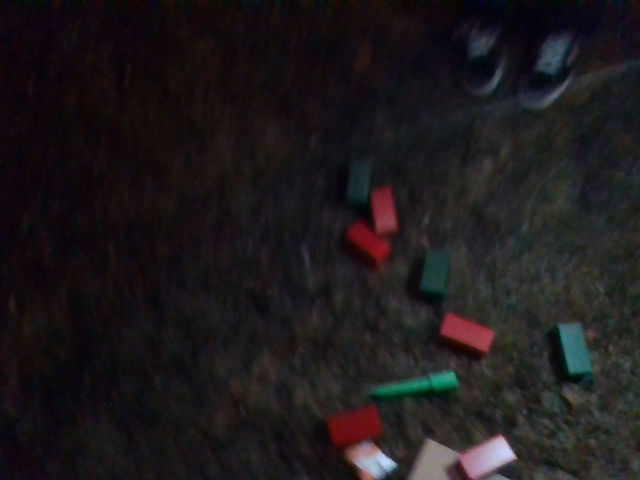Probe: (369, 368, 466, 399)
